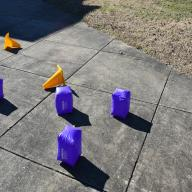cone: (44, 65, 66, 89), (5, 32, 20, 50)
cube: (57, 124, 82, 168), (111, 88, 131, 120), (55, 86, 73, 115), (0, 78, 4, 99)
